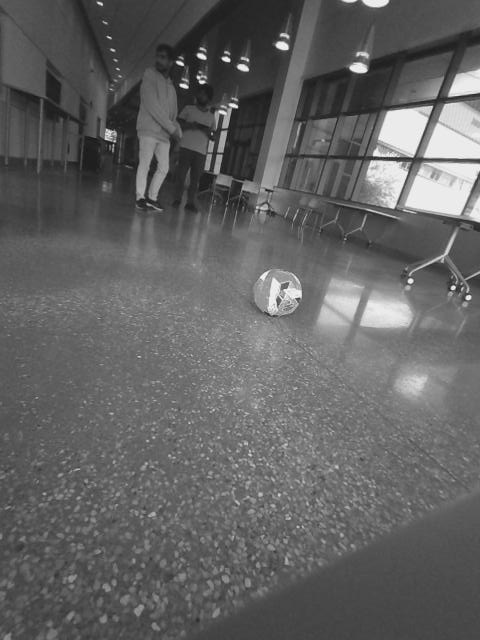ball: (249, 267, 309, 320)
